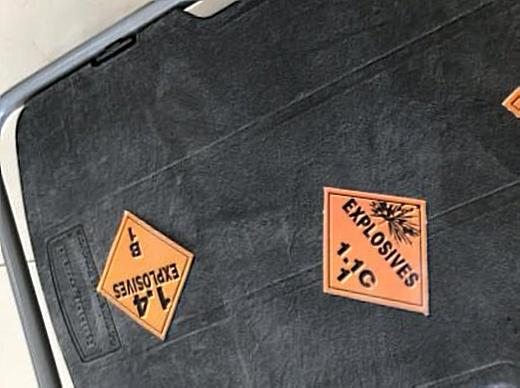explosive: (92, 206, 198, 346), (323, 184, 429, 315)
